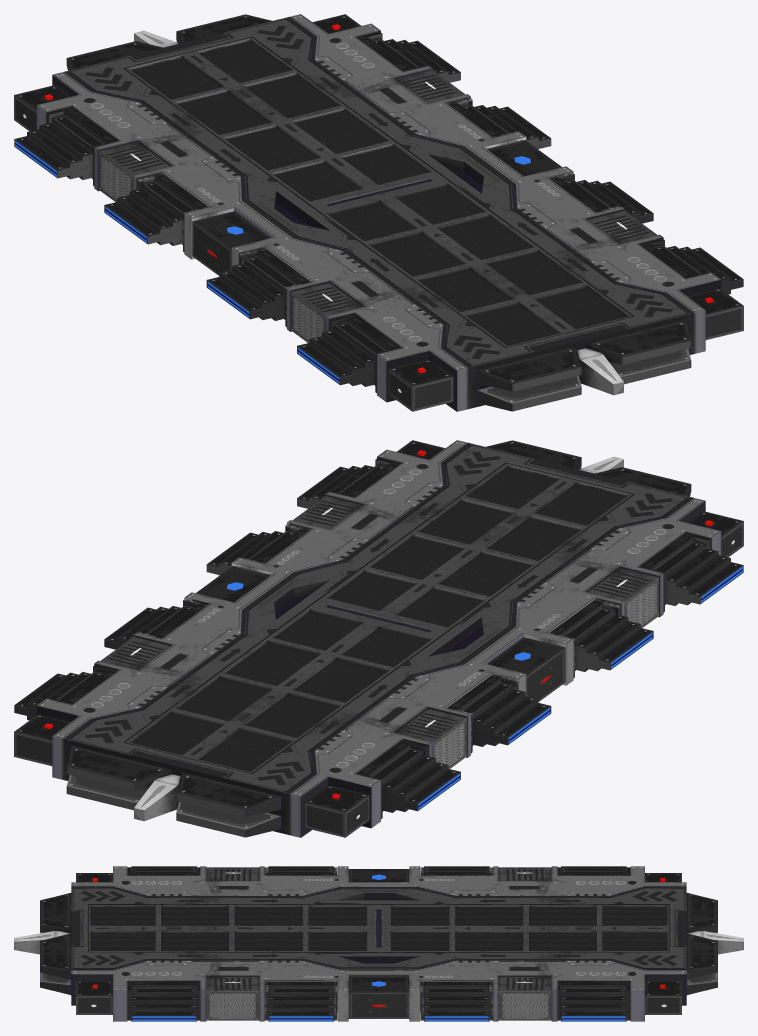
The model's file is 9feb6602-b125-46de-b7bd-aa1022614d16.glb.
The picture shows the model from 3 angles, top to bottom: view 1: azimuth 30°, elevation 25°; view 2: azimuth 150°, elevation 25°; view 3: azimuth 270°, elevation 25°; orthographic projection. The views are drawn at different scales.
Visible parts, largest first — view 1: MOVING PLATFORM; view 2: MOVING PLATFORM; view 3: MOVING PLATFORM.
Boxes of the visible parts, x1=… form: MOVING PLATFORM: x1=14, y1=14, x2=743, y2=411; MOVING PLATFORM: x1=14, y1=440, x2=743, y2=837; MOVING PLATFORM: x1=14, y1=866, x2=743, y2=1021.
Size of what is drawn, in the model's own units: 4.6 by 0.4684 by 9.49.
2 materials, 2 textured.
